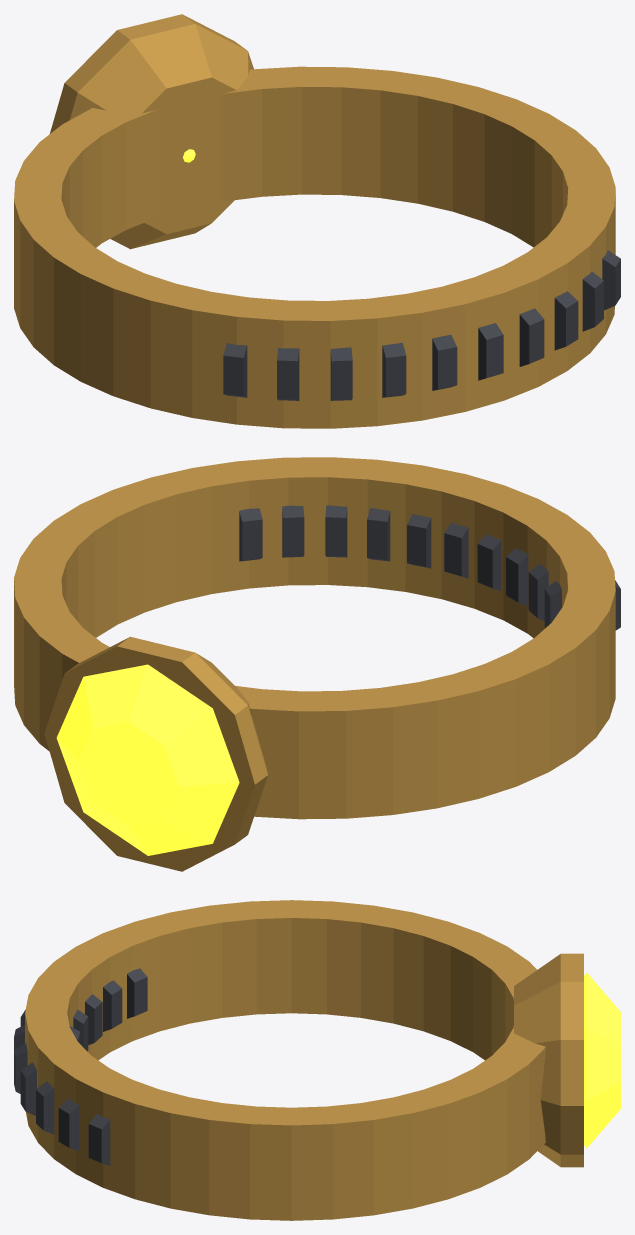
Rendered from ring_volt.glb.
3 views of the same model, one above another, from view 1: azimuth 30°, elevation 25°; view 2: azimuth 150°, elevation 25°; view 3: azimuth 270°, elevation 25° (orthographic). The views are drawn at different scales.
Visible parts, largest first — view 1: Ring_Volt_Brass, Ring_Volt_Darksteel; view 2: Ring_Volt_Brass, Ring_Volt_Gem_lightning, Ring_Volt_Darksteel; view 3: Ring_Volt_Brass, Ring_Volt_Darksteel, Ring_Volt_Gem_lightning.
Part boxes in pixels (x1,y1,x2,y2): Ring_Volt_Brass: [14, 14, 615, 428]; Ring_Volt_Darksteel: [223, 250, 620, 400]; Ring_Volt_Brass: [14, 457, 615, 871]; Ring_Volt_Gem_lightning: [56, 664, 239, 855]; Ring_Volt_Darksteel: [239, 505, 620, 630]; Ring_Volt_Brass: [25, 900, 583, 1220]; Ring_Volt_Darksteel: [14, 968, 147, 1165]; Ring_Volt_Gem_lightning: [584, 973, 620, 1147].
Size of the model in its own units: 0.0228 by 0.00875 by 0.026.
